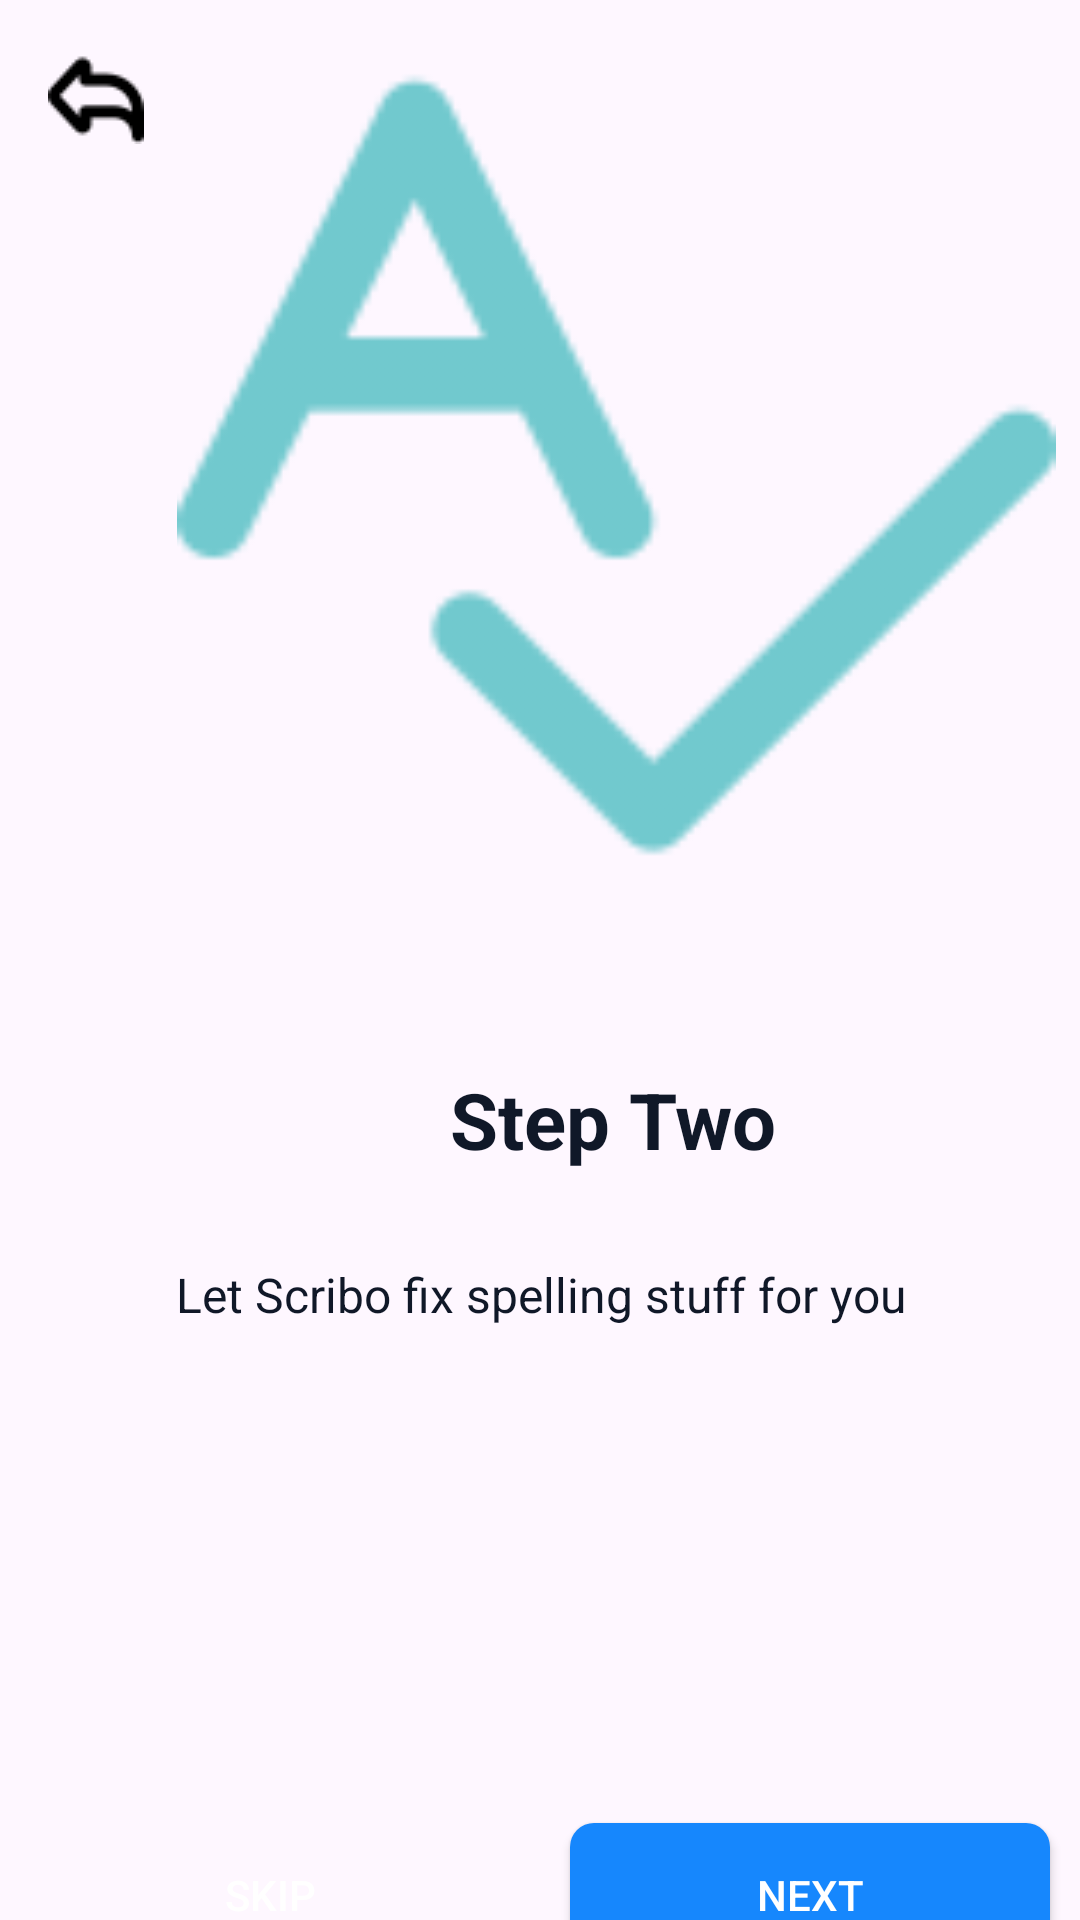

Screen size 1080x1920. Icon name, then its box in pixels as (x1, y1, x2, y2):
undo: (48, 56, 144, 144)
